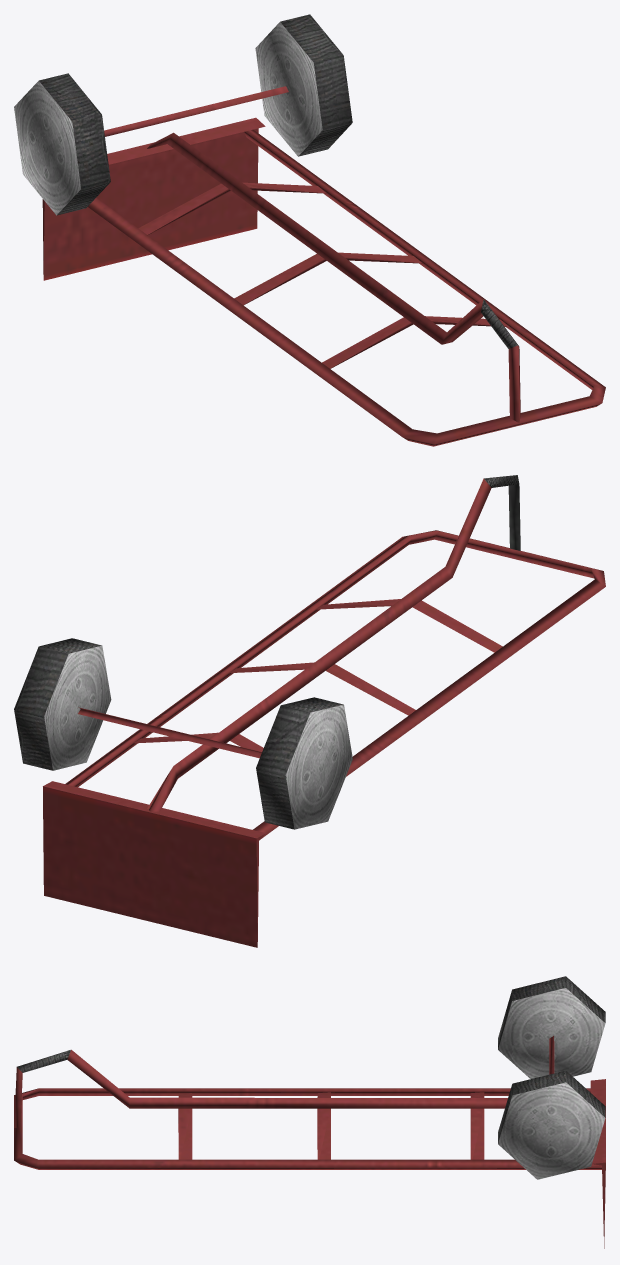
The model's file is nt_2020_dolly_01_LOD2.obj.
The picture shows the model from 3 angles, top to bottom: view 1: azimuth 30°, elevation 25°; view 2: azimuth 150°, elevation 25°; view 3: azimuth 270°, elevation 25°; orthographic projection. The views are drawn at different scales.
Visible parts, largest first — view 1: mtl_nt_2020_dolly_01; view 2: mtl_nt_2020_dolly_01; view 3: mtl_nt_2020_dolly_01.
Boxes of the visible parts, left/top/right/bottom form: mtl_nt_2020_dolly_01: left=14, top=14, right=605, bottom=446; mtl_nt_2020_dolly_01: left=14, top=475, right=605, bottom=947; mtl_nt_2020_dolly_01: left=14, top=976, right=605, bottom=1248.
Size of the model in its own units: 63.6 by 49.89 by 149.
